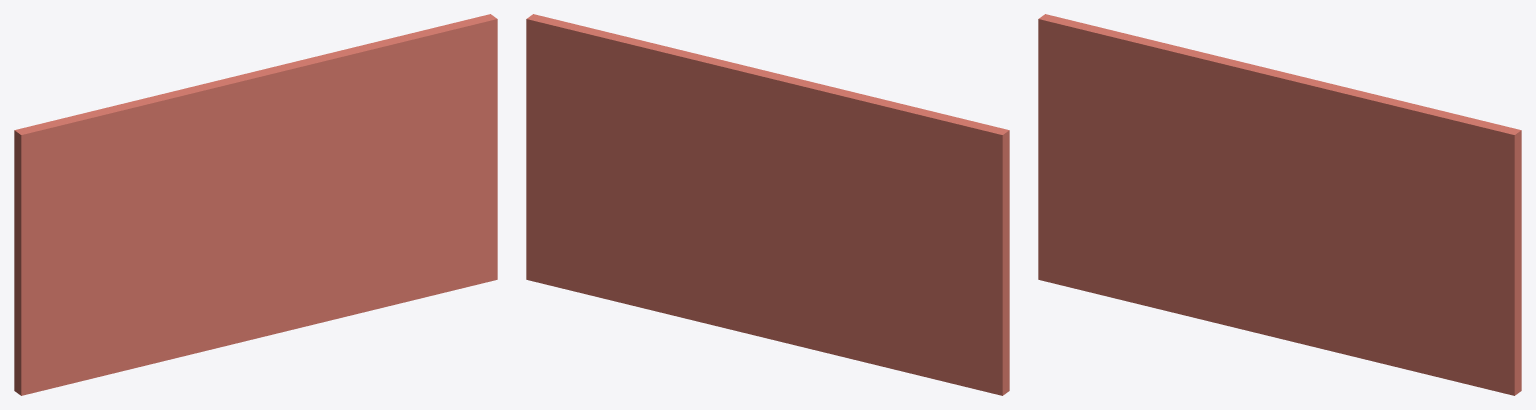
File: wall.fbx
3 renders of one model, left to right at view 1: azimuth 30°, elevation 25°; view 2: azimuth 150°, elevation 25°; view 3: azimuth 330°, elevation 25°, orthographic.
Visible parts, largest first — view 1: 立方体; view 2: 立方体; view 3: 立方体.
Part boxes in pixels (box(x1,y1,x2,y2)): 立方体: box(14, 14, 497, 395); 立方体: box(526, 14, 1009, 395); 立方体: box(1038, 14, 1521, 395).
Size of the model in its own units: 805 by 421 by 20.
